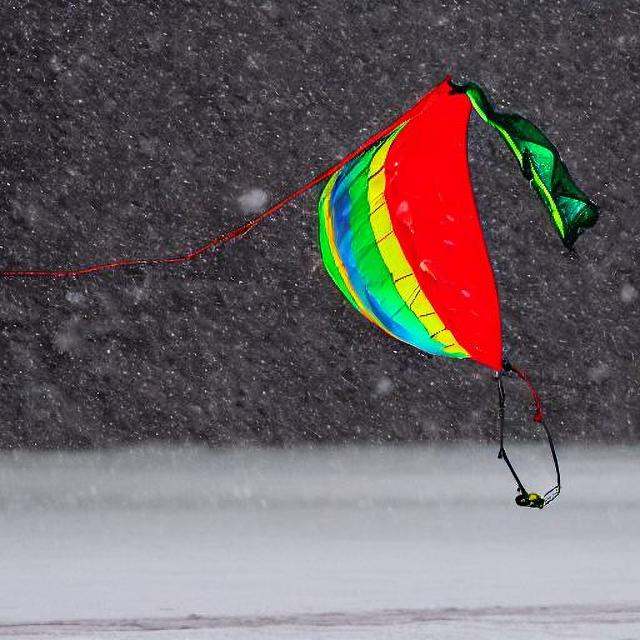floating object: (32, 70, 586, 446), (302, 70, 588, 378)
